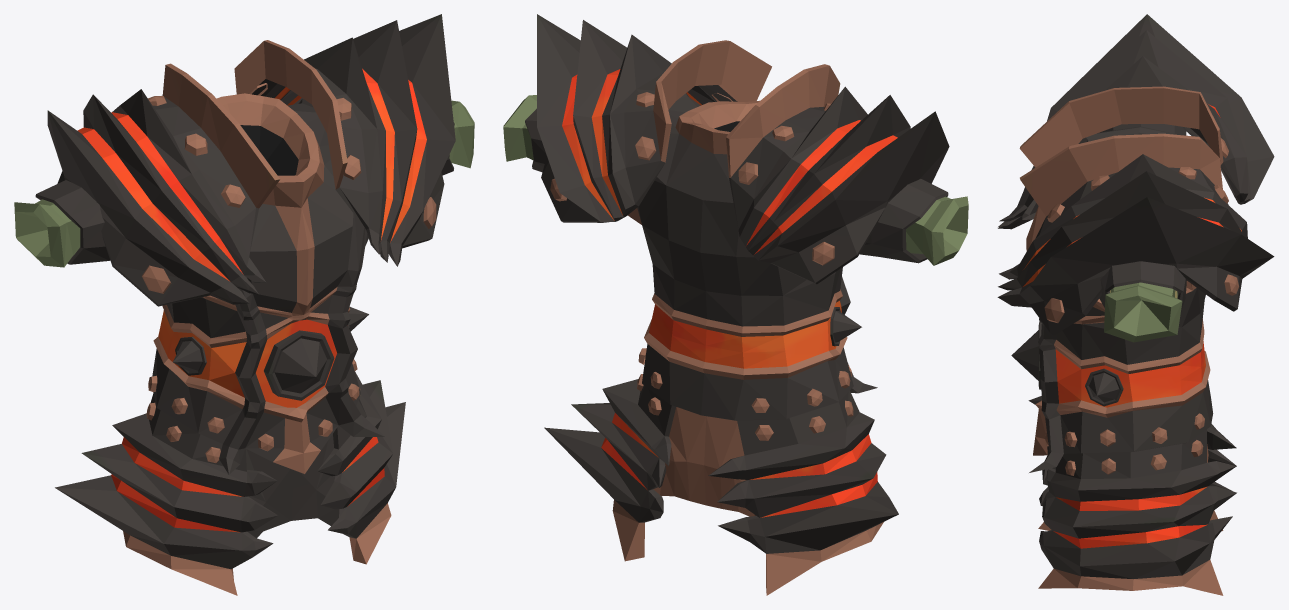
Rendered from armorHellDisplay.fbx.
3 views of the same model, side by side, from view 1: azimuth 30°, elevation 25°; view 2: azimuth 150°, elevation 25°; view 3: azimuth 270°, elevation 25° (orthographic). The views are drawn at different scales.
Parts seen in each view (by area): view 1: armorHellDisplay; view 2: armorHellDisplay; view 3: armorHellDisplay.
Part boxes in pixels (bbox=[...]): armorHellDisplay: bbox=[14, 14, 474, 595]; armorHellDisplay: bbox=[503, 14, 968, 595]; armorHellDisplay: bbox=[997, 14, 1274, 595].
Size of the model in its own units: 1.75 by 1.87 by 1.01.
